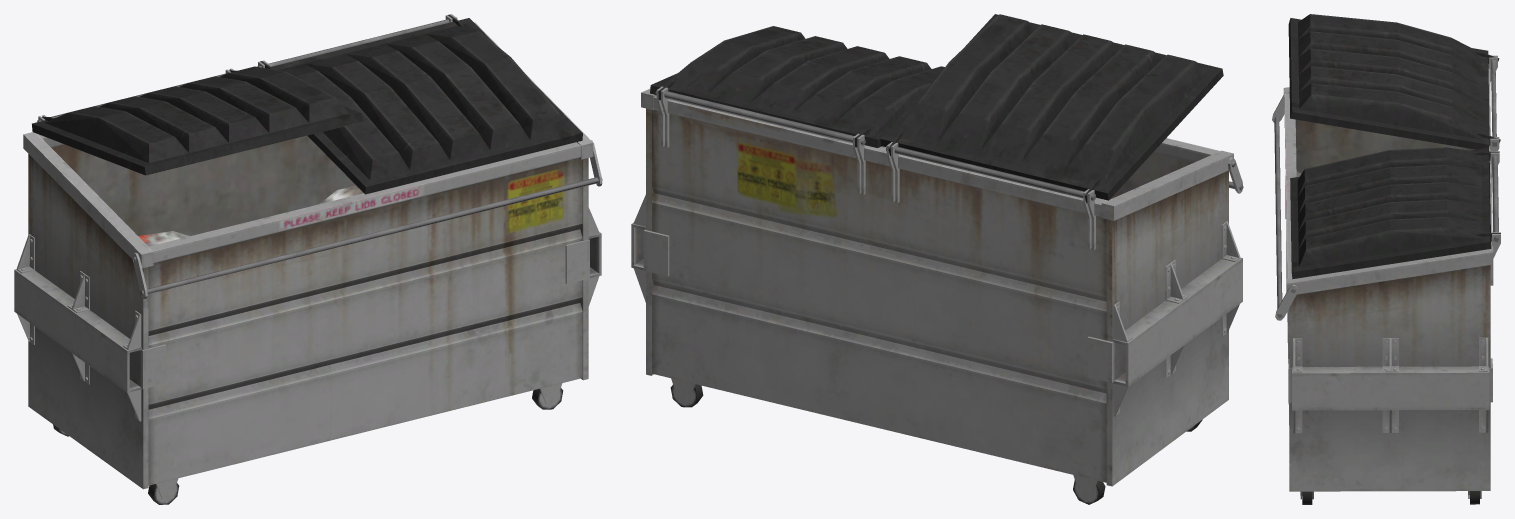
File: SandyBeach_Dumpster02.fbx
The picture shows the model from 3 angles, left to right: view 1: azimuth 30°, elevation 25°; view 2: azimuth 150°, elevation 25°; view 3: azimuth 270°, elevation 25°; orthographic projection. The views are drawn at different scales.
Visible parts, largest first — view 1: ItemBox_Dumpster_01_0_7; view 2: ItemBox_Dumpster_01_0_7; view 3: ItemBox_Dumpster_01_0_7.
Boxes of the visible parts, x1,y1,x2,y2 form: ItemBox_Dumpster_01_0_7: (14,14,602,504); ItemBox_Dumpster_01_0_7: (631,14,1243,504); ItemBox_Dumpster_01_0_7: (1272,14,1500,504).
Size of the model in its own units: 242 by 174 by 113.
Materials: 1 (1 with a texture image).
